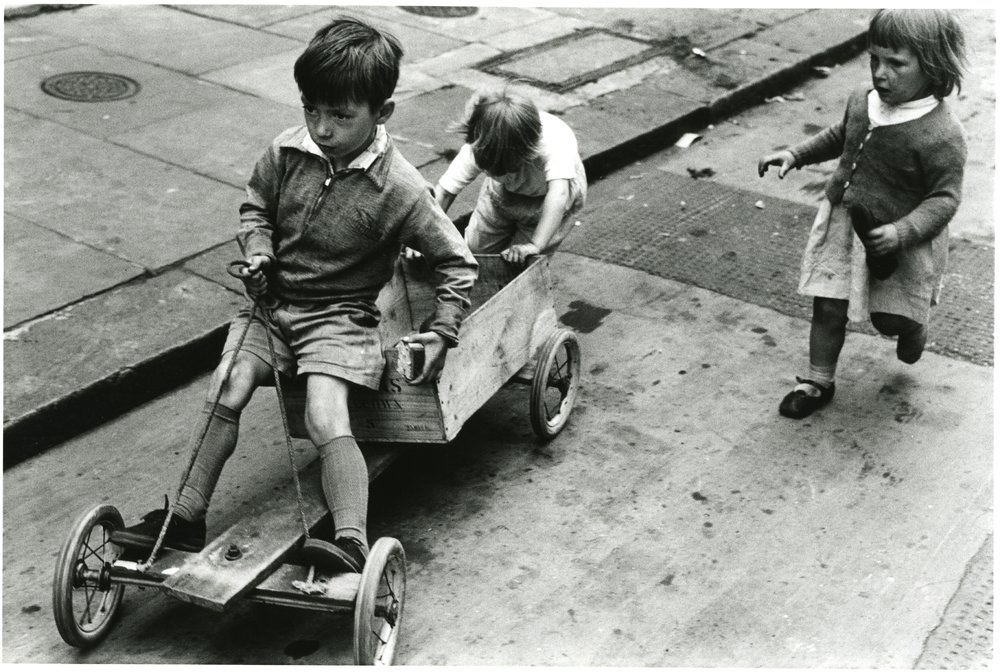Person: (186, 13, 463, 620), (762, 9, 965, 431), (431, 76, 600, 297)
